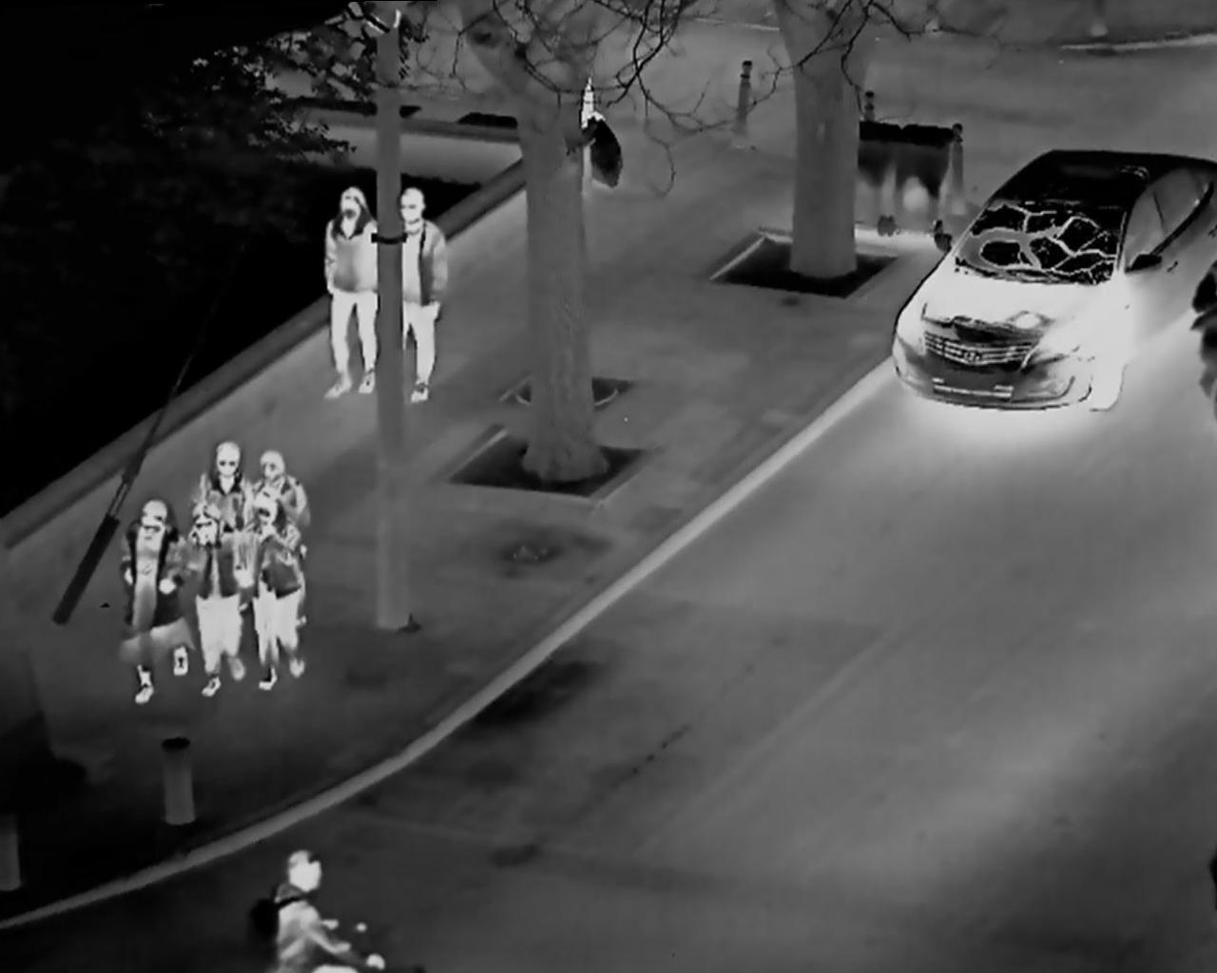person: (241, 839, 380, 973), (384, 181, 457, 406), (310, 174, 384, 391), (235, 493, 315, 688), (175, 501, 249, 701), (111, 486, 183, 691), (245, 439, 315, 528), (187, 429, 256, 513)
